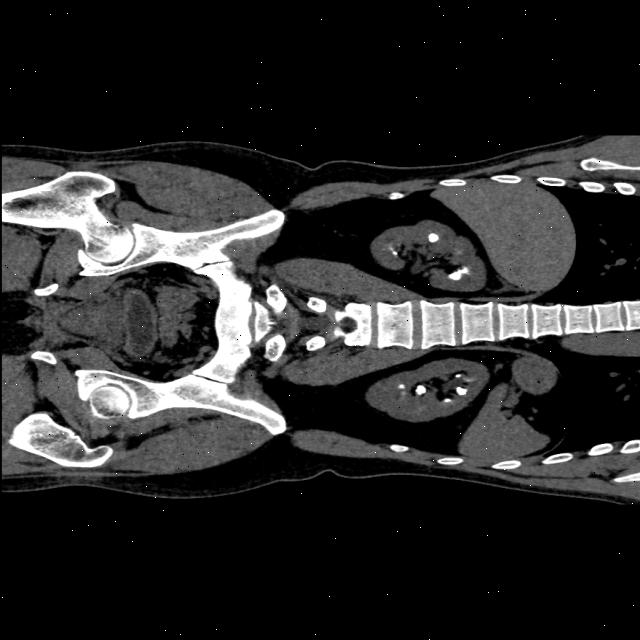kidneystone: (448, 266, 469, 281), (427, 232, 438, 242), (456, 386, 467, 395), (454, 371, 462, 378), (391, 249, 398, 256), (414, 386, 425, 390), (443, 398, 452, 402), (400, 384, 405, 388)
